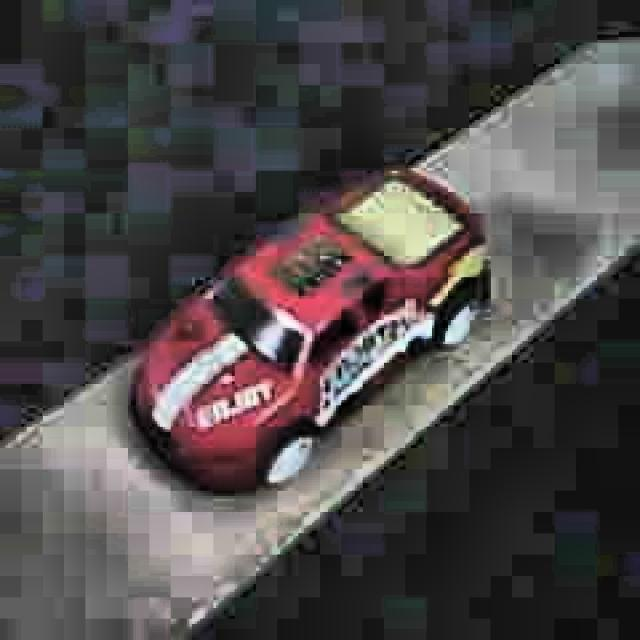car: (126, 163, 493, 498)
